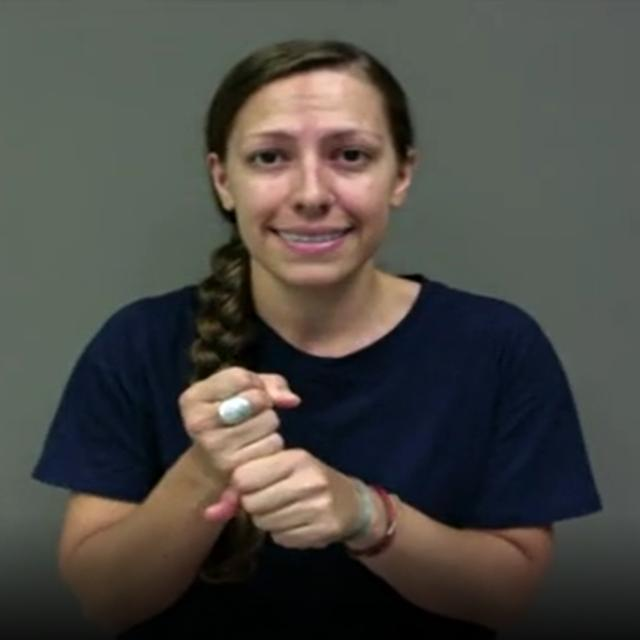get: (179, 367, 356, 550)
